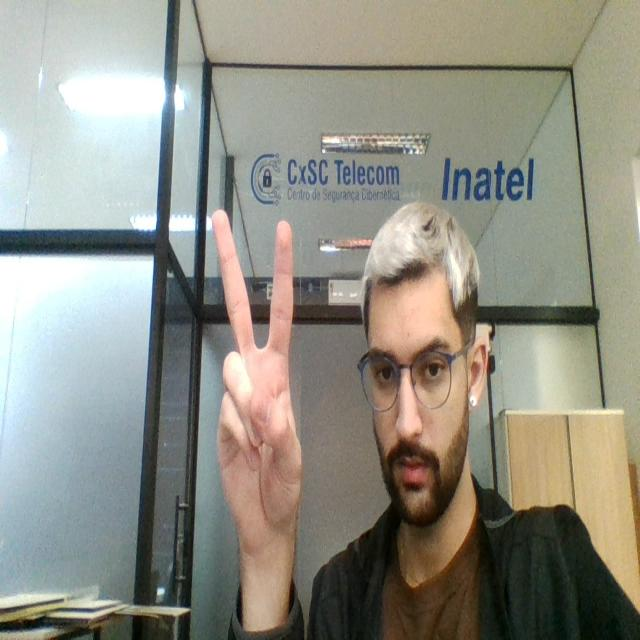V: (208, 201, 305, 574)
